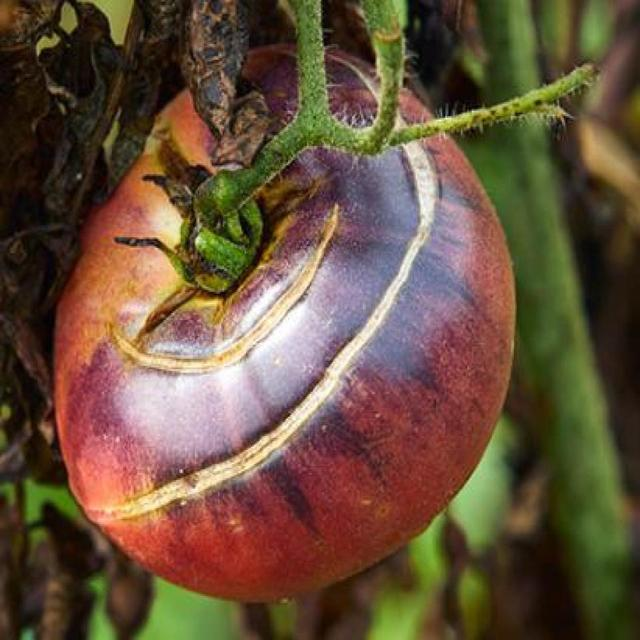Cracking Fruit: (151, 120, 252, 333)
